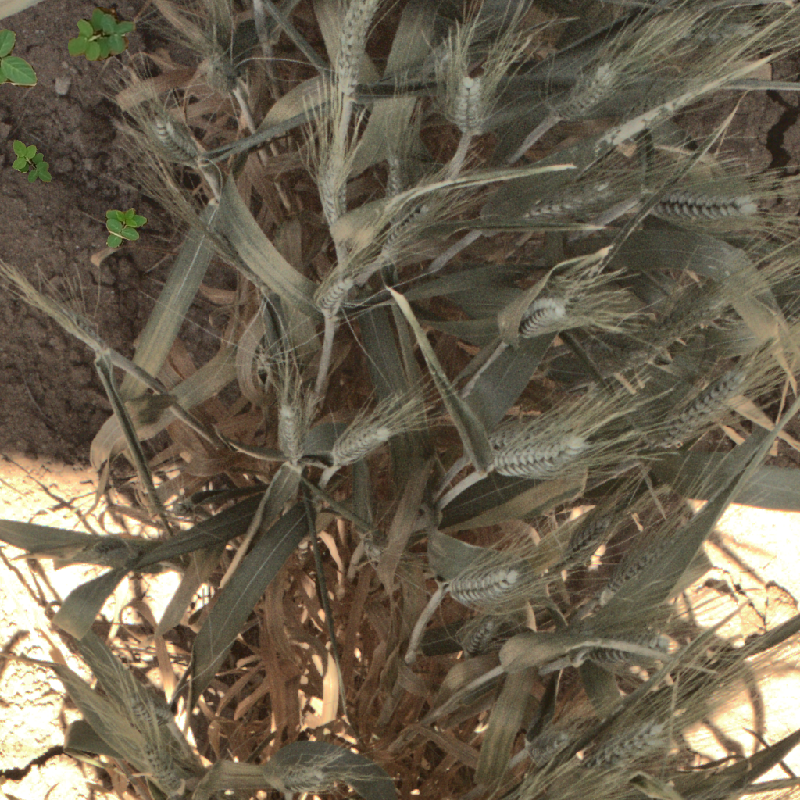spikelet: (661, 366, 750, 444), (123, 692, 185, 798), (487, 427, 592, 480), (331, 1, 384, 94), (654, 174, 761, 220), (587, 715, 674, 771), (598, 541, 675, 601), (518, 178, 616, 225), (550, 59, 622, 122), (442, 557, 527, 606), (266, 752, 374, 789), (313, 141, 353, 228), (326, 419, 395, 467), (506, 291, 577, 337), (147, 114, 204, 168), (586, 634, 669, 669), (449, 72, 492, 136), (520, 723, 577, 767), (272, 397, 307, 465), (567, 517, 615, 562), (201, 50, 240, 95), (460, 618, 501, 658), (318, 274, 356, 314)
weed: (68, 7, 137, 61), (2, 138, 61, 189), (1, 29, 38, 88), (105, 208, 148, 248)
